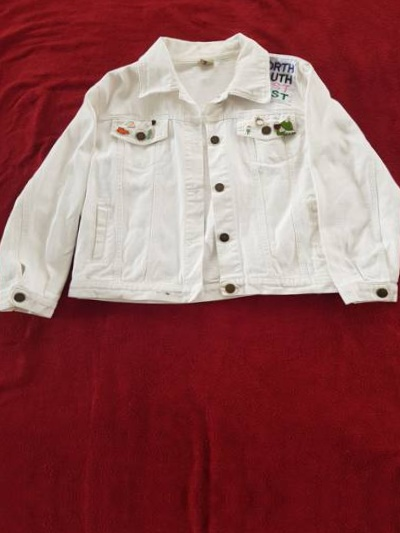Blazer: (0, 27, 400, 336), (0, 19, 0, 328)
